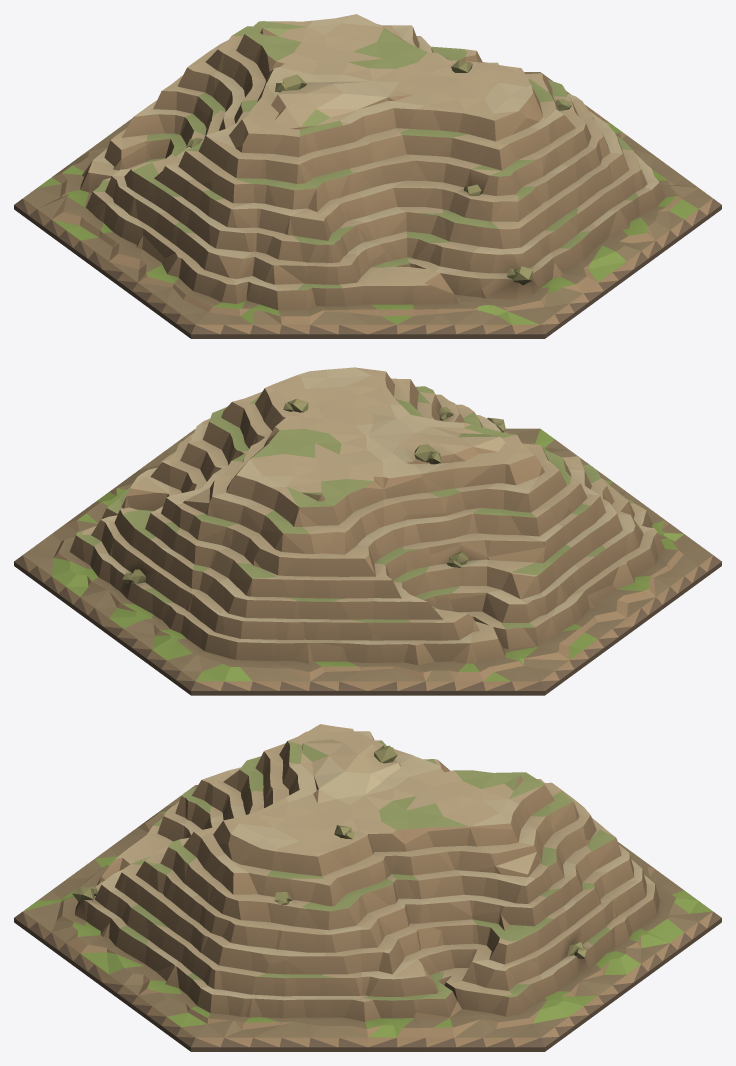
File: hills_loess.glb
The picture shows the model from 3 angles, top to bottom: view 1: azimuth 30°, elevation 25°; view 2: azimuth 150°, elevation 25°; view 3: azimuth 270°, elevation 25°; orthographic projection.
Parts seen in each view (by area): view 1: hills_loess; view 2: hills_loess; view 3: hills_loess.
Boxes of the visible parts, bbox=[...] form: hills_loess: bbox=[14, 14, 721, 338]; hills_loess: bbox=[14, 367, 721, 695]; hills_loess: bbox=[14, 724, 721, 1051].
Bounding box in the file's own units: 17.32 × 4.45 × 20.
